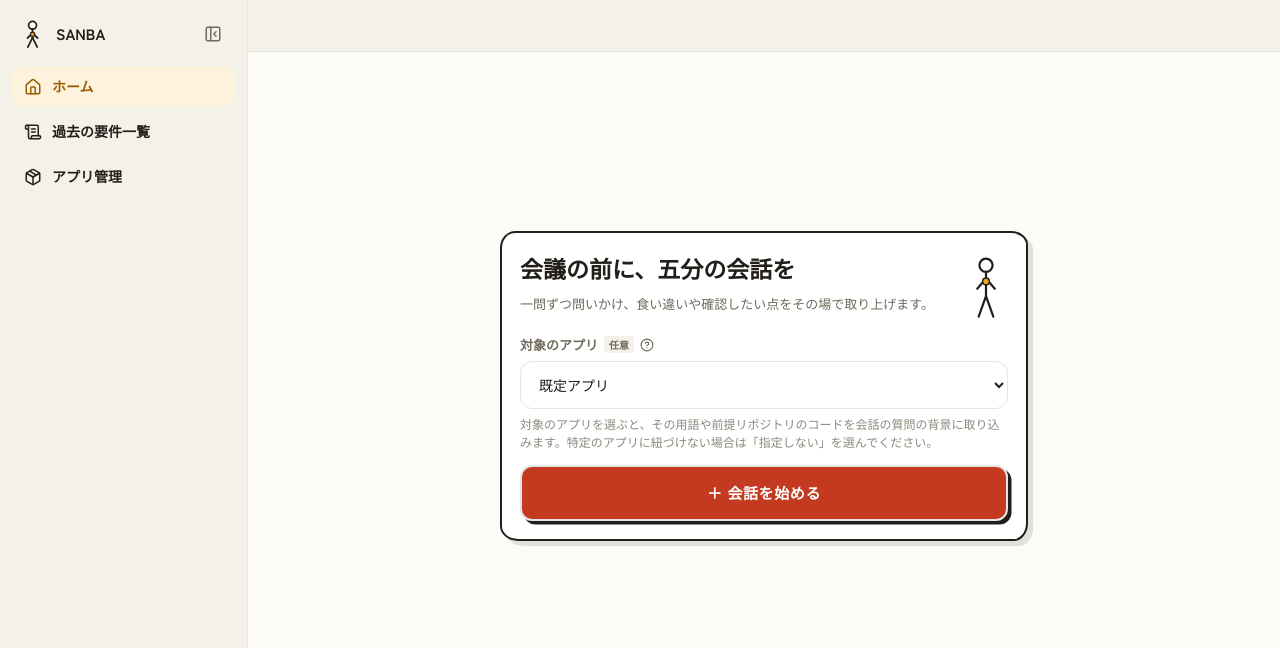
Scenario: 入口フロー（#140） › CTA で 02 準備へ遷移し、役割の既定が利用者
Click the button "＋ 会話を始める" at coordinates (764, 493), box [520, 464, 1008, 521]
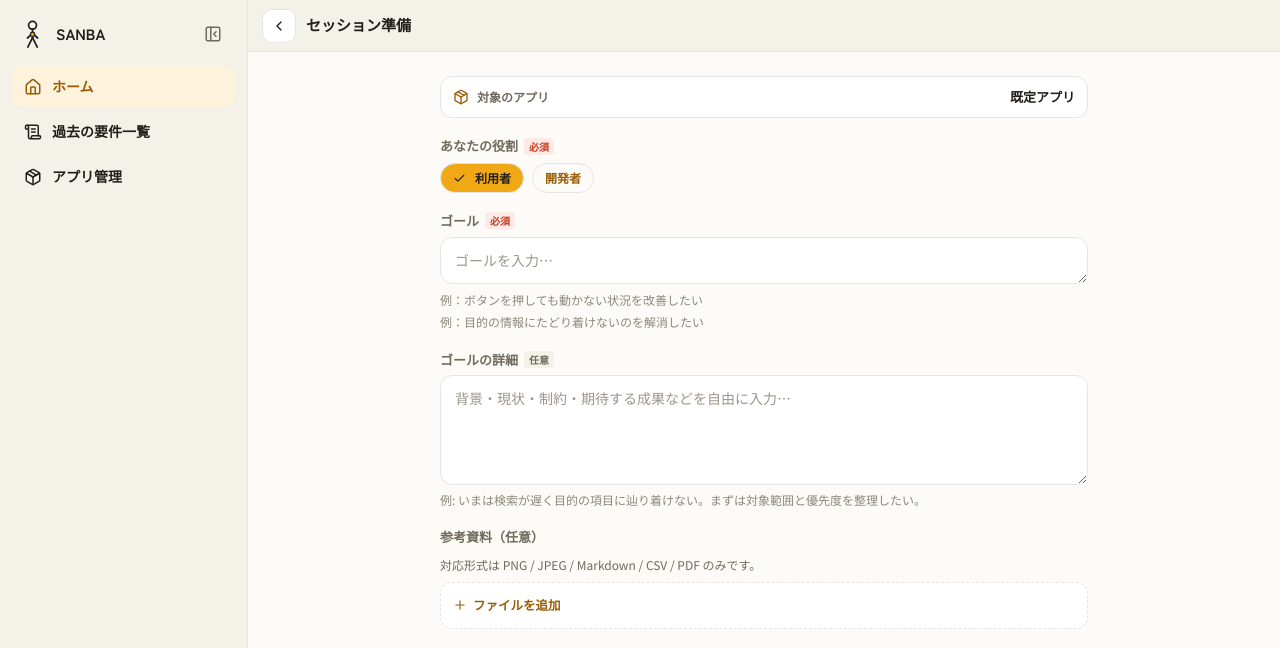
Expected: the heading "セッション準備" is shown, [306, 14, 411, 37]
